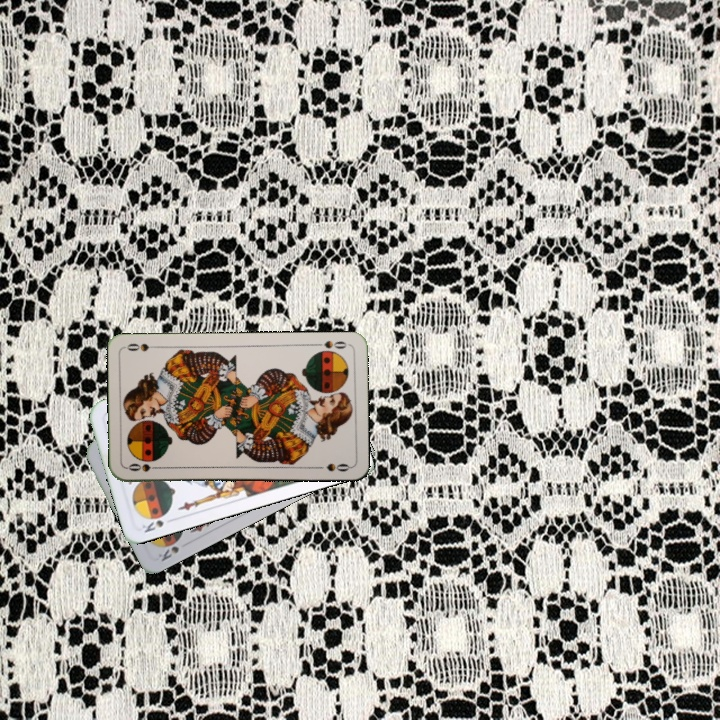SK: (138, 509, 172, 535), (154, 542, 182, 564)
SO: (123, 460, 164, 474), (311, 337, 351, 351)
